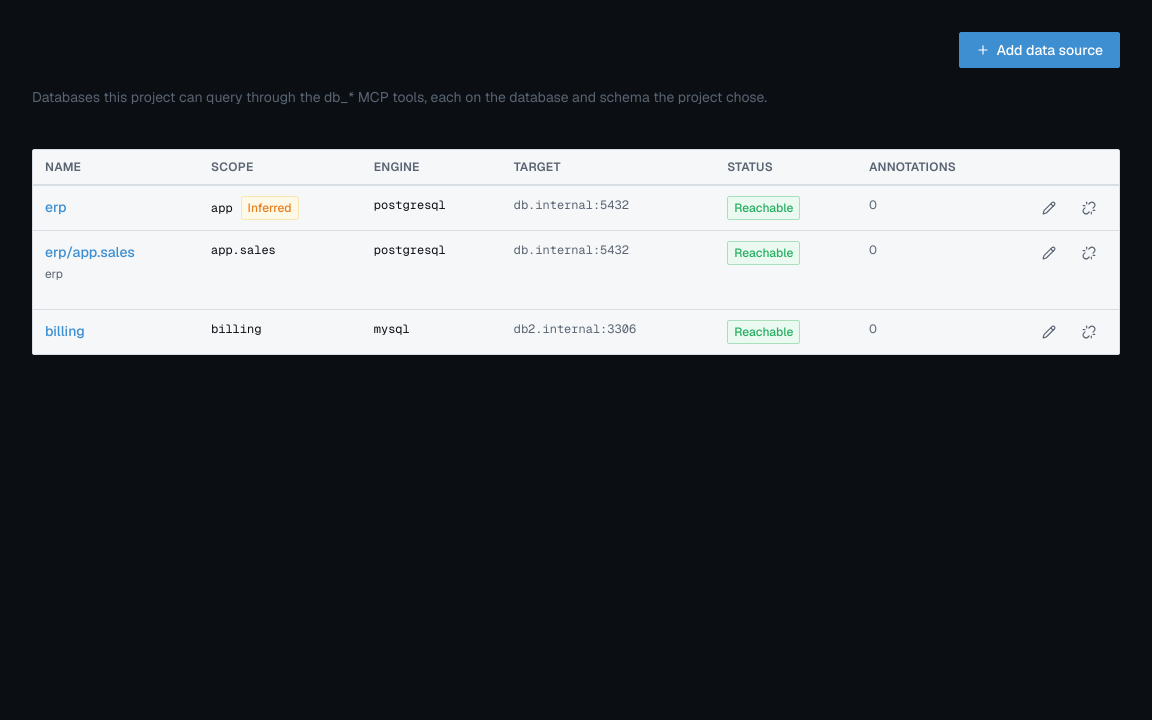
Test: Data Sources page › opens the scope dialog from Change scope
Step 1. Click the button named "Change scope" in the row of "erp/app.sales" → (1049, 253), box [1031, 241, 1067, 265]
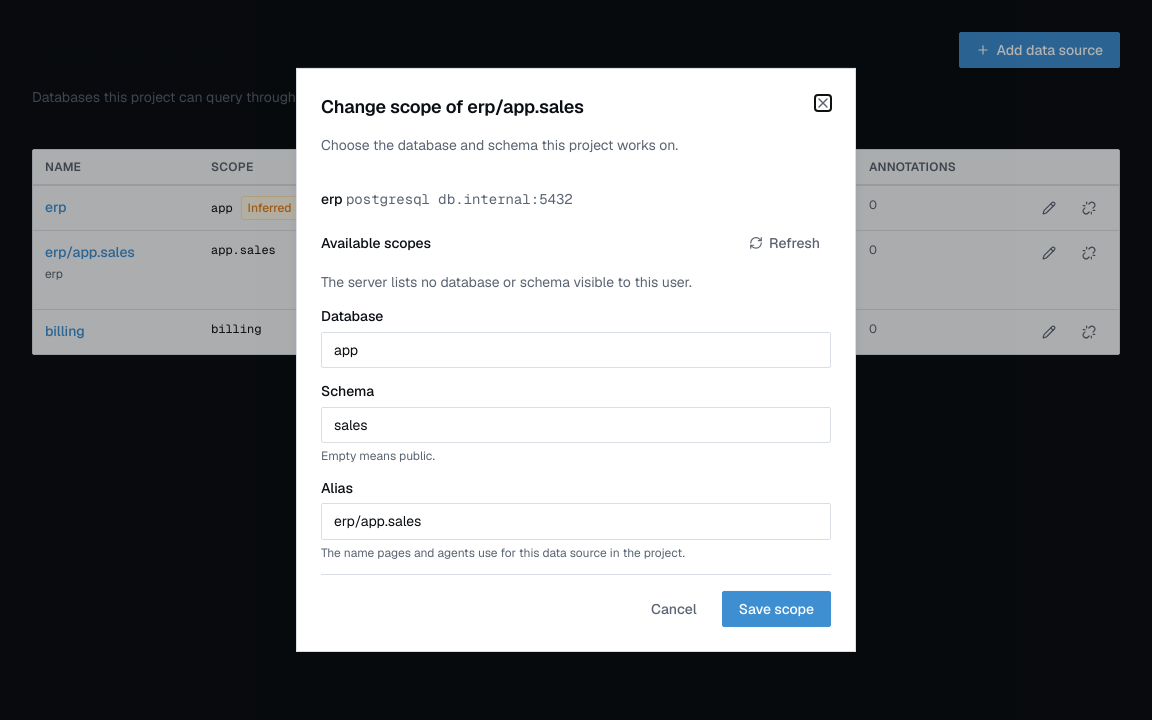
expect the heading "Change scope of erp/app.sales" is shown: met, box [321, 95, 584, 118]
